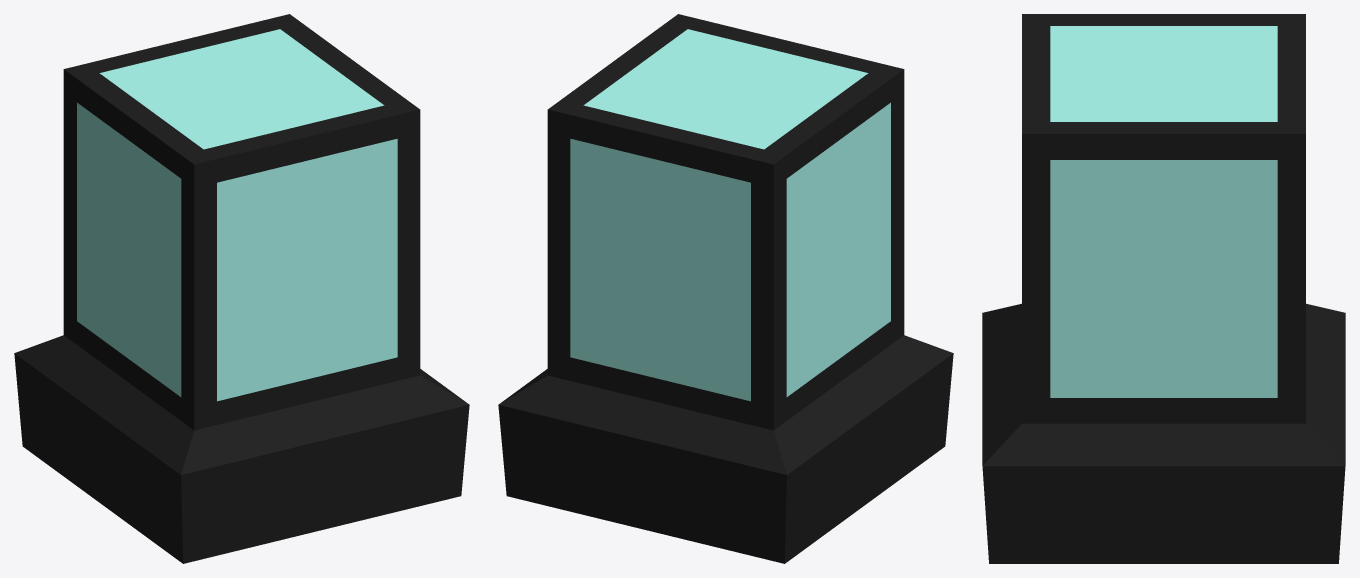
Rendered from Medium Display 001.FBX.
3 renders of one model, left to right at view 1: azimuth 30°, elevation 25°; view 2: azimuth 150°, elevation 25°; view 3: azimuth 270°, elevation 25°, orthographic. The views are drawn at different scales.
Parts seen in each view (by area): view 1: Medium Display; view 2: Medium Display; view 3: Medium Display.
Boxes of the visible parts, <box> form: Medium Display: <box>14,14,469,563</box>; Medium Display: <box>498,14,953,563</box>; Medium Display: <box>982,14,1345,563</box>.
Bounding box in the file's own units: 1.28 × 1.62 × 1.28.
